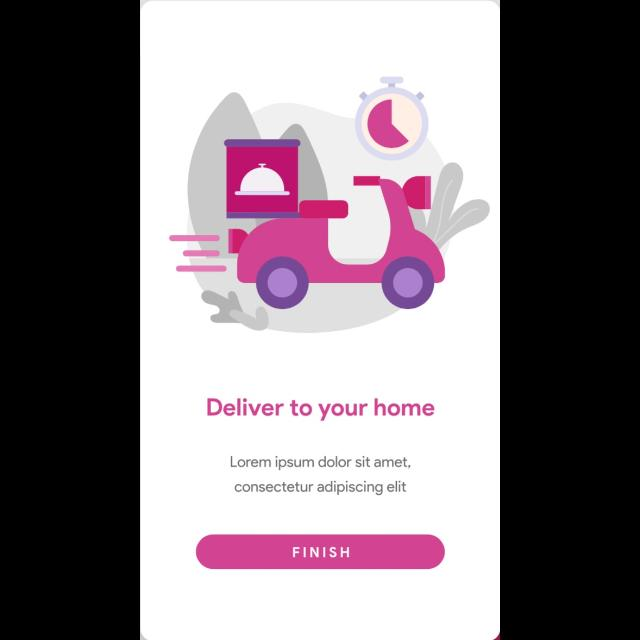image: (169, 76, 491, 334)
text: (230, 454, 412, 496), (208, 398, 436, 420)
textbutton: (196, 534, 446, 570)
